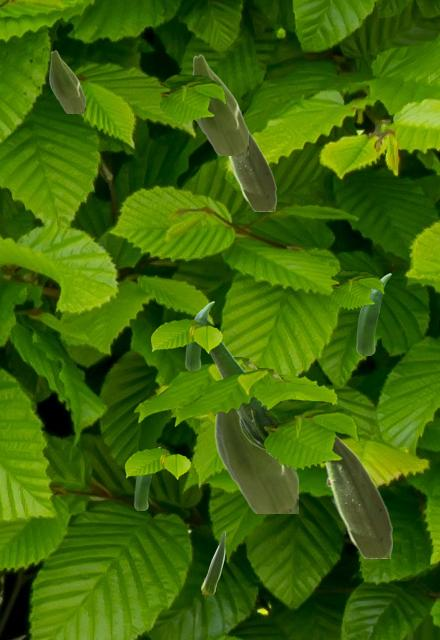okra: (214, 409, 297, 512), (324, 436, 391, 557), (209, 340, 277, 457), (192, 54, 247, 154), (223, 130, 275, 210), (356, 273, 390, 354), (49, 50, 84, 112), (185, 301, 213, 369), (134, 447, 159, 509), (201, 531, 224, 593)
